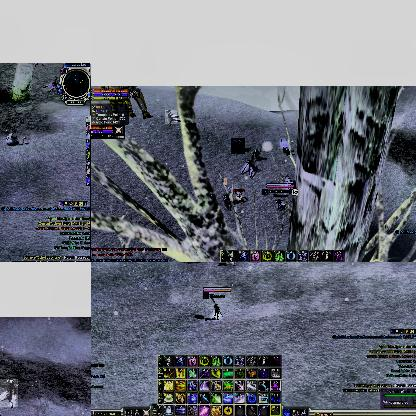caliana: (0, 379, 17, 407), (240, 160, 254, 178), (231, 138, 245, 154), (165, 110, 177, 124), (250, 149, 262, 161), (280, 140, 288, 156)
